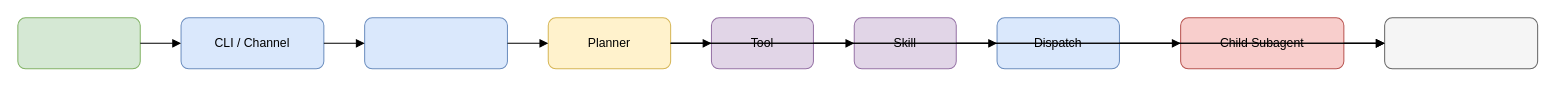
The diagram is 1556 pixels wide and 87 high, and some of its shapes have lost their labels. Each missing label, with the centre of its shape:
MainAgent: (435,43)
Trace / Memory: (1461,43)
User: (78,43)
